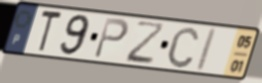9: (58, 13, 92, 57)
C: (165, 25, 201, 70)
I: (192, 26, 220, 74)
P: (92, 16, 131, 61)
T: (35, 9, 65, 55)
Z: (124, 20, 167, 67)
